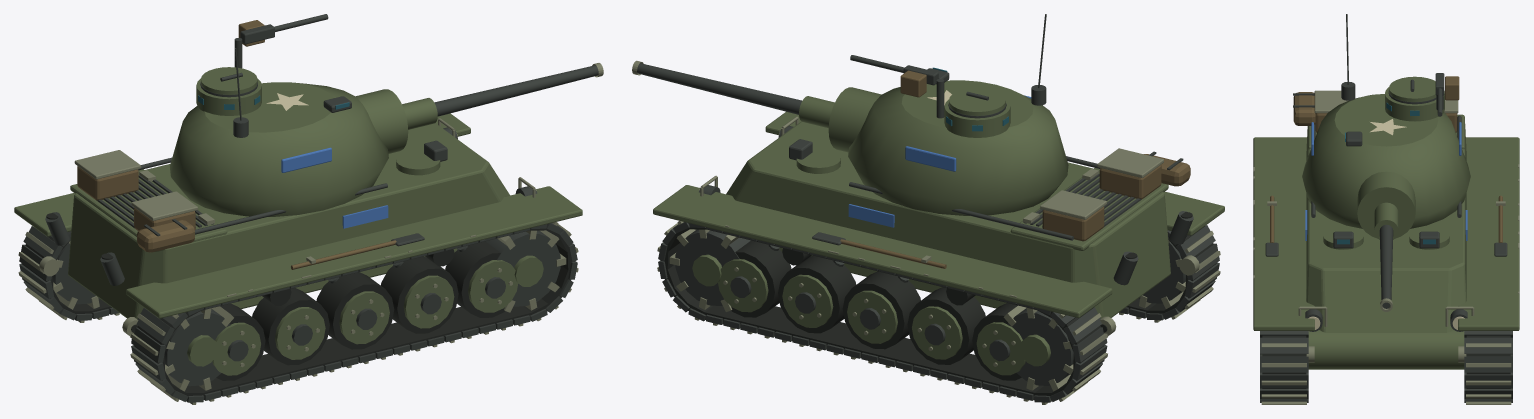
Rendered from tank.glb.
The picture shows the model from 3 angles, left to right: view 1: azimuth 30°, elevation 25°; view 2: azimuth 150°, elevation 25°; view 3: azimuth 270°, elevation 25°; orthographic projection. The views are drawn at different scales.
Visible parts, largest first — view 1: Armor, Steel, Tracks, EdgeSteel, Canvas, TeamColor; view 2: Armor, Steel, Tracks, EdgeSteel, Canvas, TeamColor; view 3: Armor, Steel, EdgeSteel, Canvas, Tracks, Markings, TeamColor, Optics.
Boxes of the visible parts, left/top/right/bottom form: Armor: left=14, top=67, right=582, bottom=375; Steel: left=19, top=14, right=598, bottom=402; Tracks: left=22, top=213, right=574, bottom=399; EdgeSteel: left=18, top=63, right=603, bottom=404; Canvas: left=77, top=20, right=396, bottom=269; TeamColor: left=281, top=147, right=388, bottom=228; Armor: left=653, top=80, right=1224, bottom=375; Steel: left=637, top=14, right=1219, bottom=402; Tracks: left=661, top=212, right=1216, bottom=400; EdgeSteel: left=632, top=60, right=1220, bottom=404; Canvas: left=840, top=70, right=1190, bottom=268; TeamColor: left=848, top=95, right=1031, bottom=227; Armor: left=1253, top=76, right=1519, bottom=369; Steel: left=1260, top=14, right=1512, bottom=402; EdgeSteel: left=1253, top=90, right=1519, bottom=404; Canvas: left=1270, top=76, right=1502, bottom=242; Tracks: left=1262, top=335, right=1510, bottom=388; Markings: left=1308, top=119, right=1464, bottom=329; TeamColor: left=1305, top=122, right=1467, bottom=240; Optics: left=1337, top=102, right=1435, bottom=244.
Bounding box in the file's own units: 6.85 × 3.75 × 3.28.
